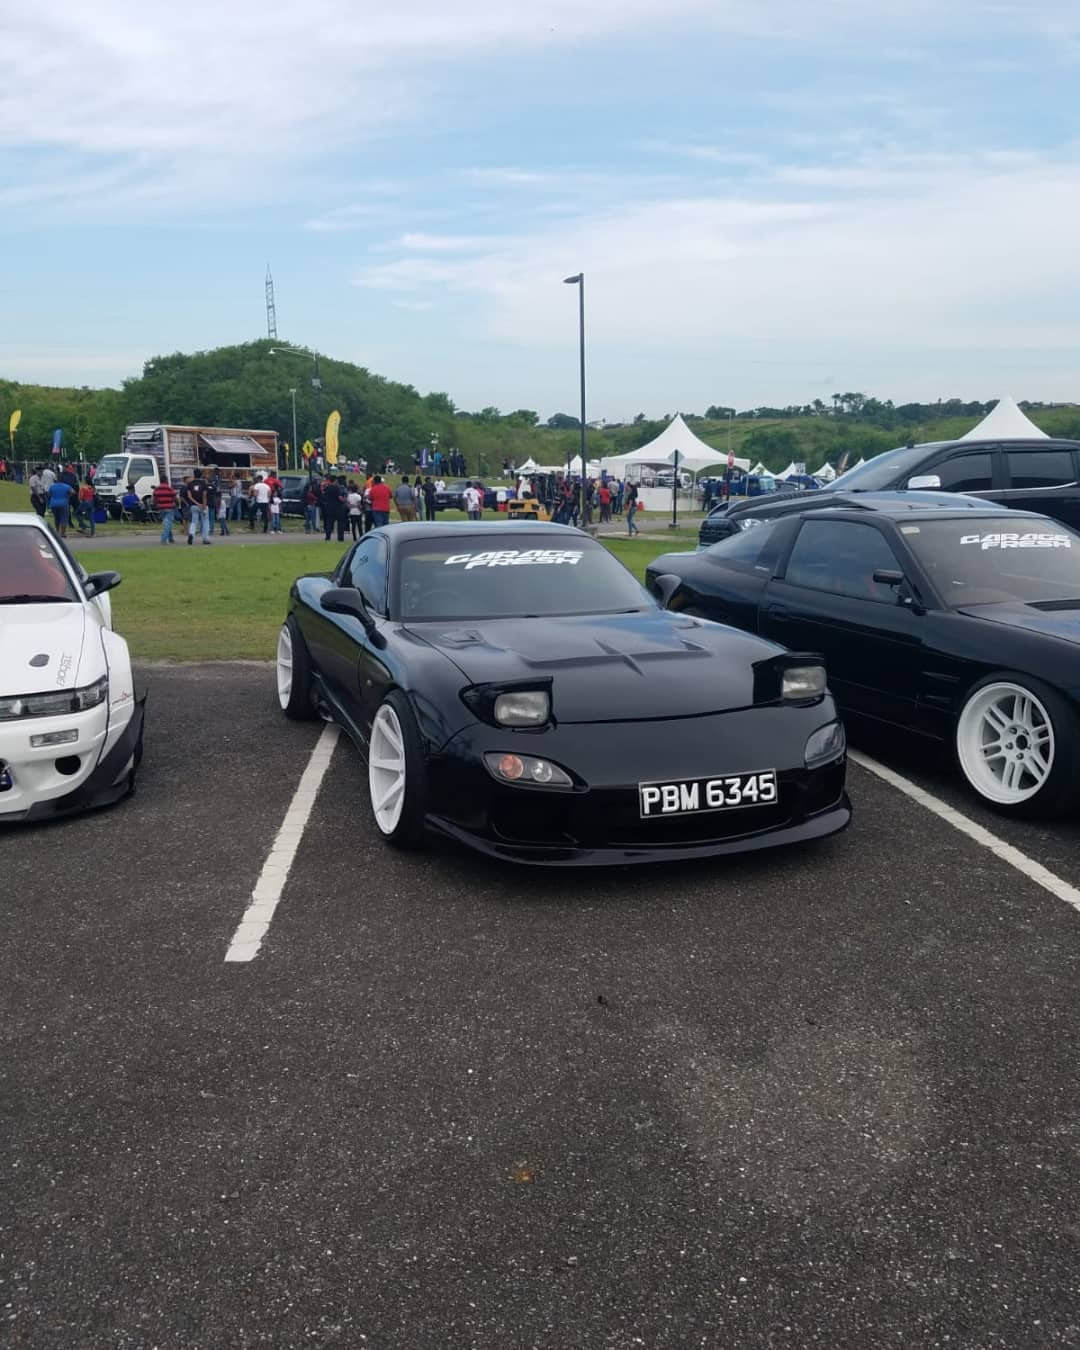License-Plate: (639, 784, 775, 816)
